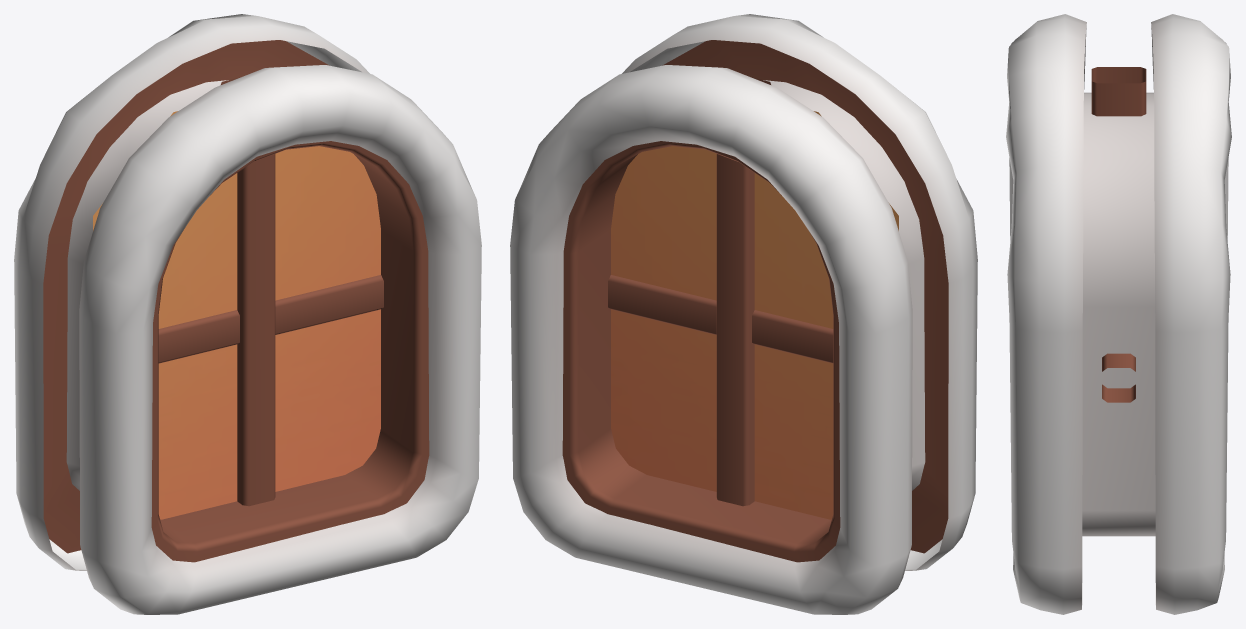
The model's file is Window_001.fbx.
3 views of the same model, side by side, from view 1: azimuth 30°, elevation 25°; view 2: azimuth 150°, elevation 25°; view 3: azimuth 270°, elevation 25° (orthographic).
Parts seen in each view (by area): view 1: Window_001; view 2: Window_001; view 3: Window_001.
Boxes of the visible parts, <box> form: Window_001: <box>14,14,481,614</box>; Window_001: <box>510,14,977,614</box>; Window_001: <box>1006,14,1231,614</box>.
Bounding box in the file's own units: 106 × 53.77 × 135.
